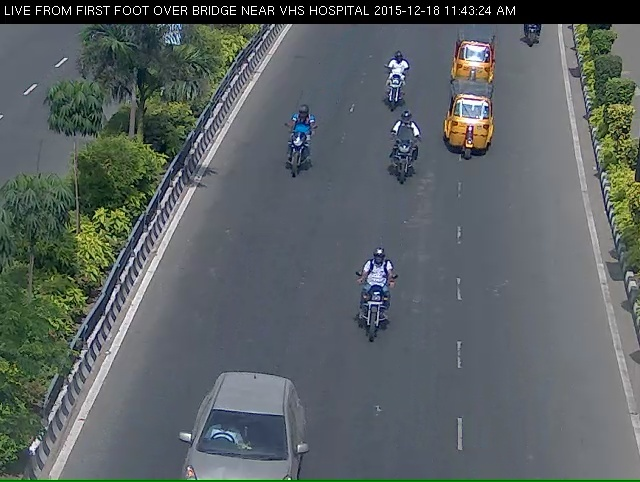Car: (163, 392, 322, 479), (447, 87, 499, 173), (447, 32, 502, 97)
Person: (333, 248, 398, 363), (267, 114, 311, 184), (386, 125, 423, 191), (377, 54, 408, 118)
